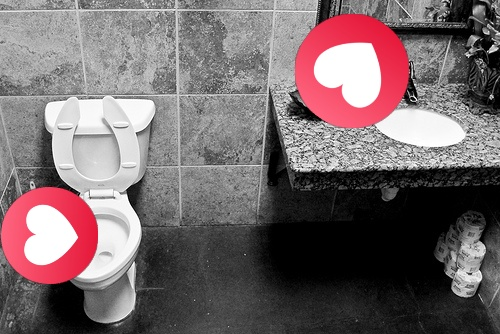love: (295, 14, 409, 128), (1, 187, 98, 284)
